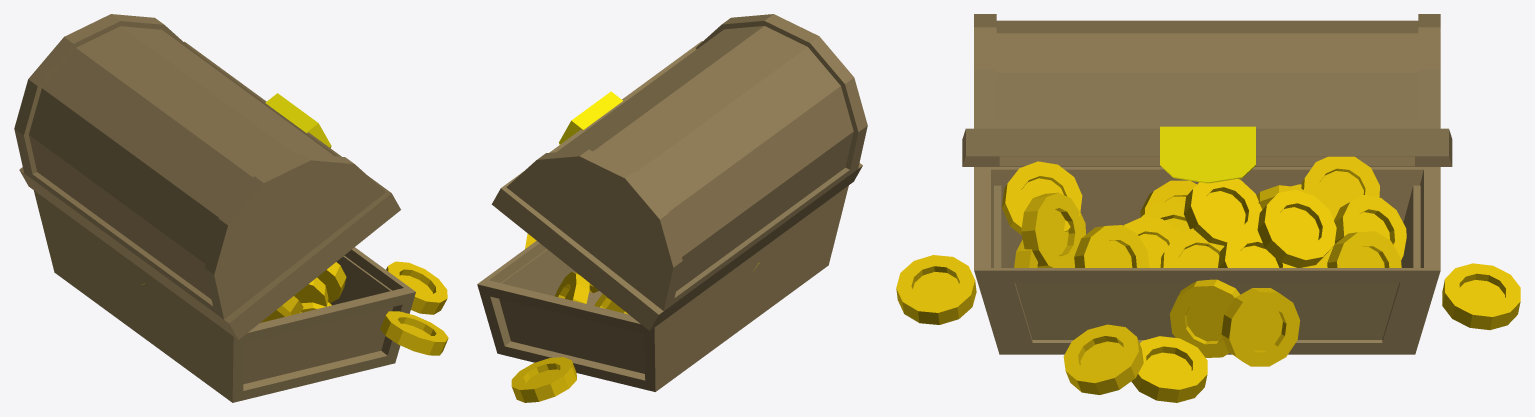
The model's file is Chest.fbx.
The picture shows the model from 3 angles, left to right: view 1: azimuth 30°, elevation 25°; view 2: azimuth 150°, elevation 25°; view 3: azimuth 270°, elevation 25°; orthographic projection. The views are drawn at different scales.
Visible parts, largest first — view 1: Plane, Plane.001, Circle.025, Circle.024, Plane.002, Circle.019, Circle.004; view 2: Plane, Plane.001, Circle.022, Plane.002, Circle.012; view 3: Plane, Plane.001, Plane.002, Circle.026, Circle.016, Circle.025, Circle.024, Circle.022, Circle.023, Circle.020, Circle.004, Circle.021 (+10 smaller).
Part boxes in pixels (<box>): Plane: <box>14,14,400,339</box>; Plane.001: <box>34,190,415,402</box>; Circle.025: <box>380,311,448,355</box>; Circle.024: <box>386,261,447,314</box>; Plane.002: <box>265,93,331,147</box>; Circle.019: <box>317,262,346,302</box>; Circle.004: <box>294,277,328,306</box>; Plane: <box>491,14,867,330</box>; Plane.001: <box>477,185,848,391</box>; Circle.022: <box>511,357,576,402</box>; Plane.002: <box>559,91,622,144</box>; Circle.012: <box>555,271,589,303</box>; Plane: <box>962,14,1452,166</box>; Plane.001: <box>974,167,1440,354</box>; Plane.002: <box>1160,126,1255,183</box>; Circle.026: <box>1221,288,1300,366</box>; Circle.016: <box>1257,189,1336,267</box>; Circle.025: <box>896,255,976,324</box>; Circle.024: <box>1063,324,1143,394</box>; Circle.022: <box>1442,263,1520,330</box>; Circle.023: <box>1131,336,1207,402</box>; Circle.020: <box>1184,179,1261,246</box>; Circle.004: <box>1021,192,1084,267</box>; Circle.021: <box>1169,279,1240,357</box>.
Size of the model in its own units: 374 by 300 by 609.
